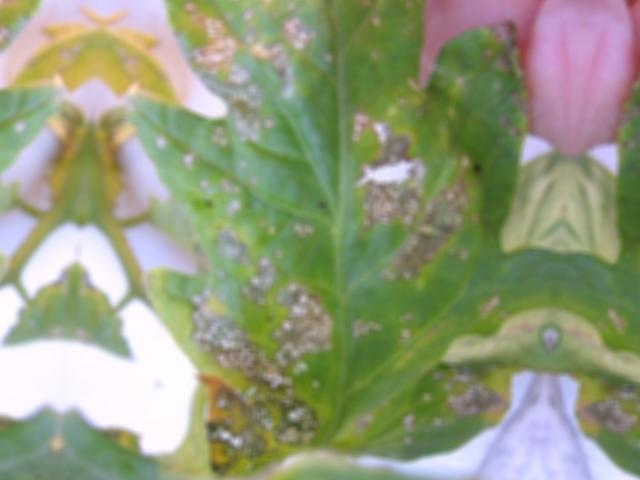Tomato Septoria leaf spot: (113, 0, 580, 480)
